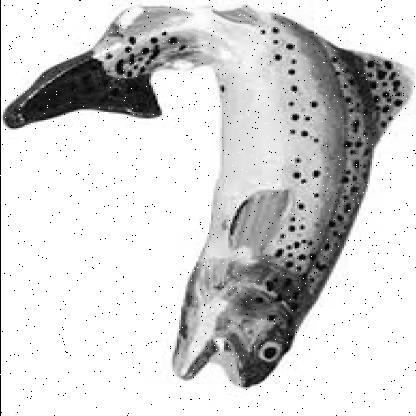fish: (2, 0, 415, 385)
